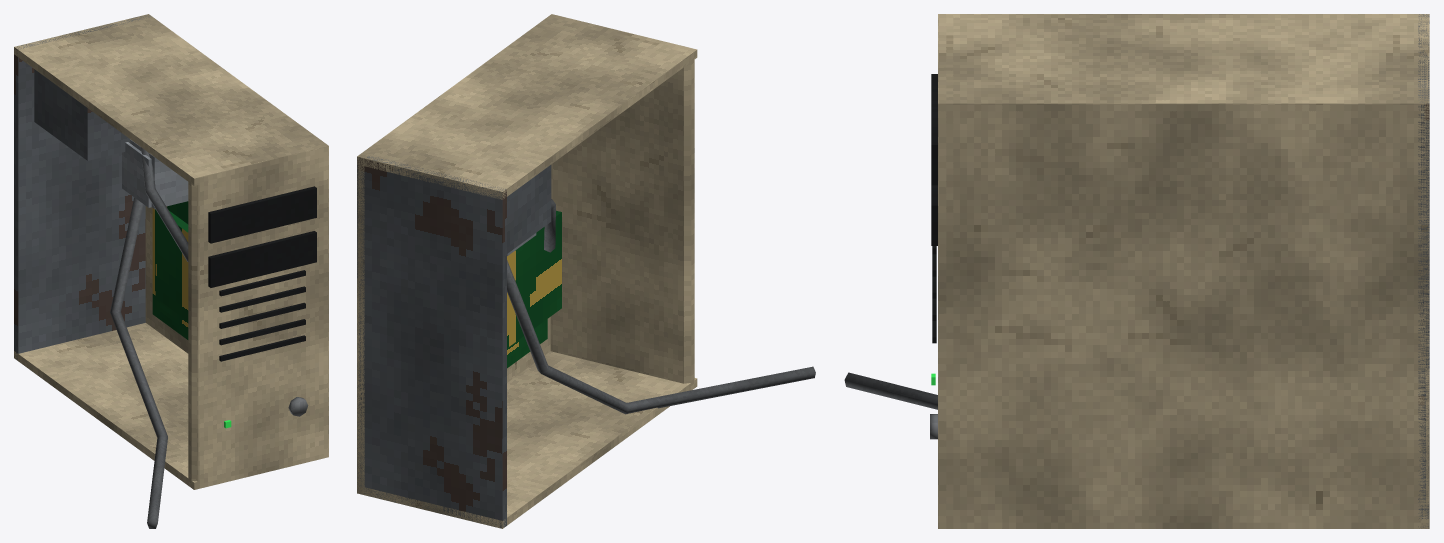
Rendered from Lab_TowerOpen.fbx.
3 renders of one model, left to right at view 1: azimuth 30°, elevation 25°; view 2: azimuth 150°, elevation 25°; view 3: azimuth 270°, elevation 25°, orthographic. The views are drawn at different scales.
Parts seen in each view (by area): view 1: Lab_TowerOpen; view 2: Lab_TowerOpen; view 3: Lab_TowerOpen.
Boxes of the visible parts, x1,y1,x2,y2 form: Lab_TowerOpen: [14, 14, 328, 528]; Lab_TowerOpen: [357, 14, 815, 528]; Lab_TowerOpen: [844, 14, 1429, 528].
Size of the model in its own units: 0.3006 by 0.42 by 0.5237.
